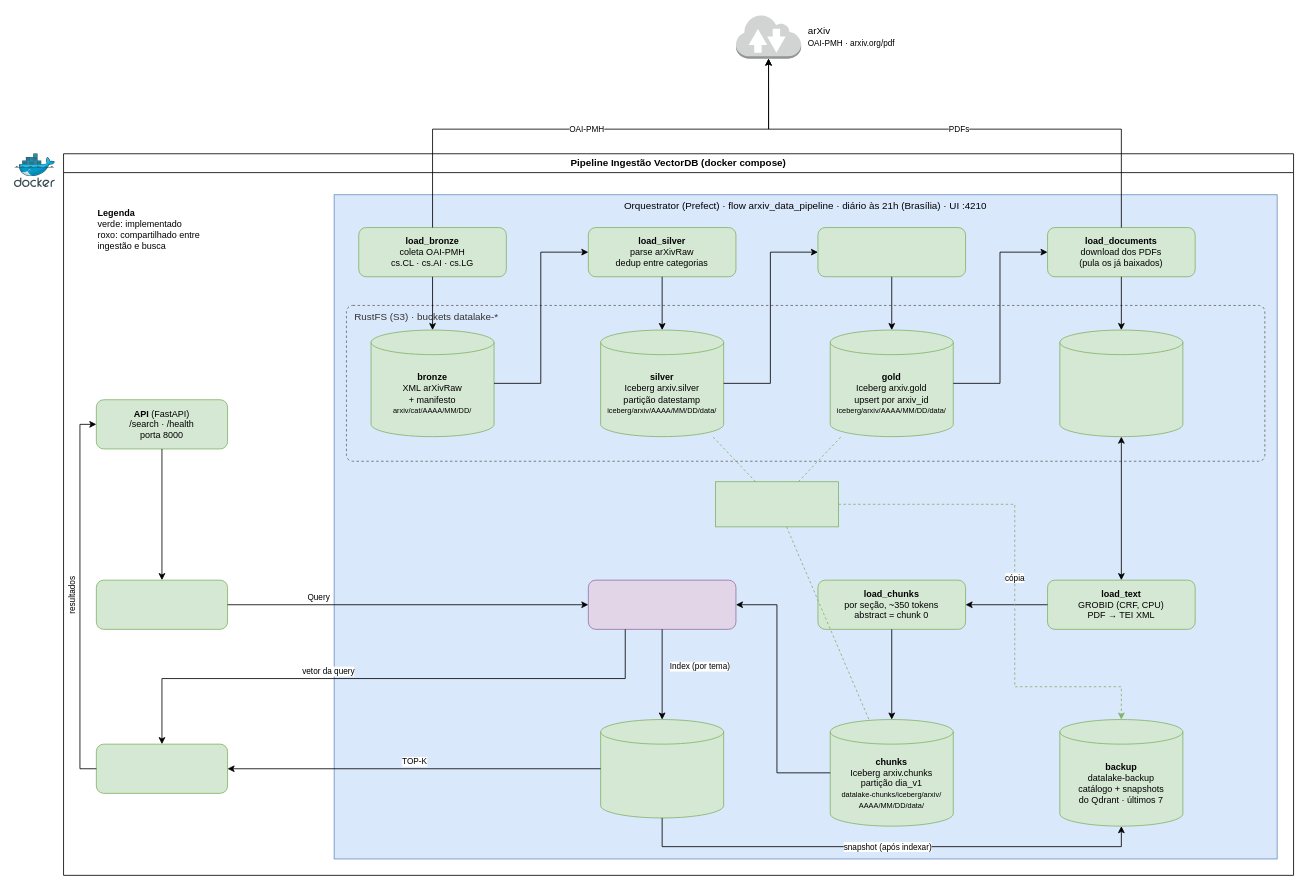
This 1308x890 diagram has some shape labels left out. The centre of each missing label's shape, as x and y in pixels:
"catálogo Iceberg (SQLite) data/iceberg/catalogo.db" goes at point (776, 504).
"documents PDFs + .tei.xml arxiv/tema/AAAA/MM/DD/ título.pdf · título.tei.xml" goes at point (1121, 383).
"load_embeddings TEI · bge-small-en-v1.5 384 dims · CPU" goes at point (662, 604).
"load_gold artigos novos (só v1, ≤ 7 dias) tema: RAG › Agents › LLM" goes at point (891, 252).
"Qdrant collections rag · agents · llm id = UUID5(chunk_id)" goes at point (662, 768).
"retrieve agrupa por artigo top-k + trechos" goes at point (162, 768).
"Translate LibreTranslate pt → en + glossário técnico" goes at point (162, 604).
